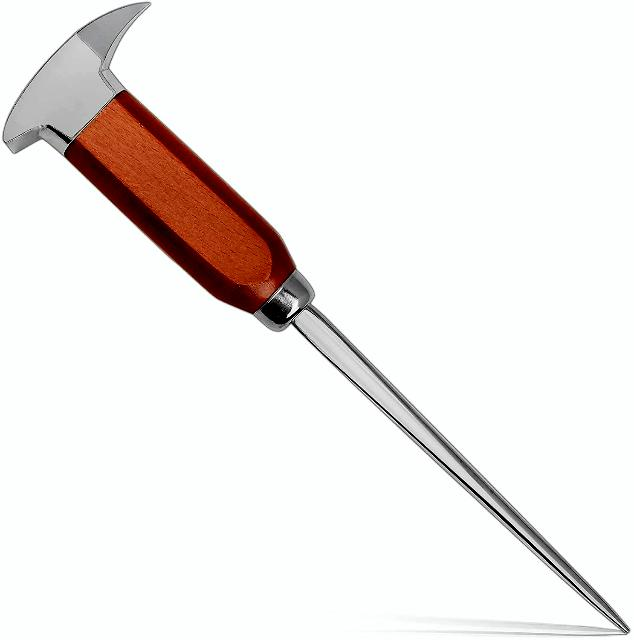ice pick: (4, 1, 630, 632)
